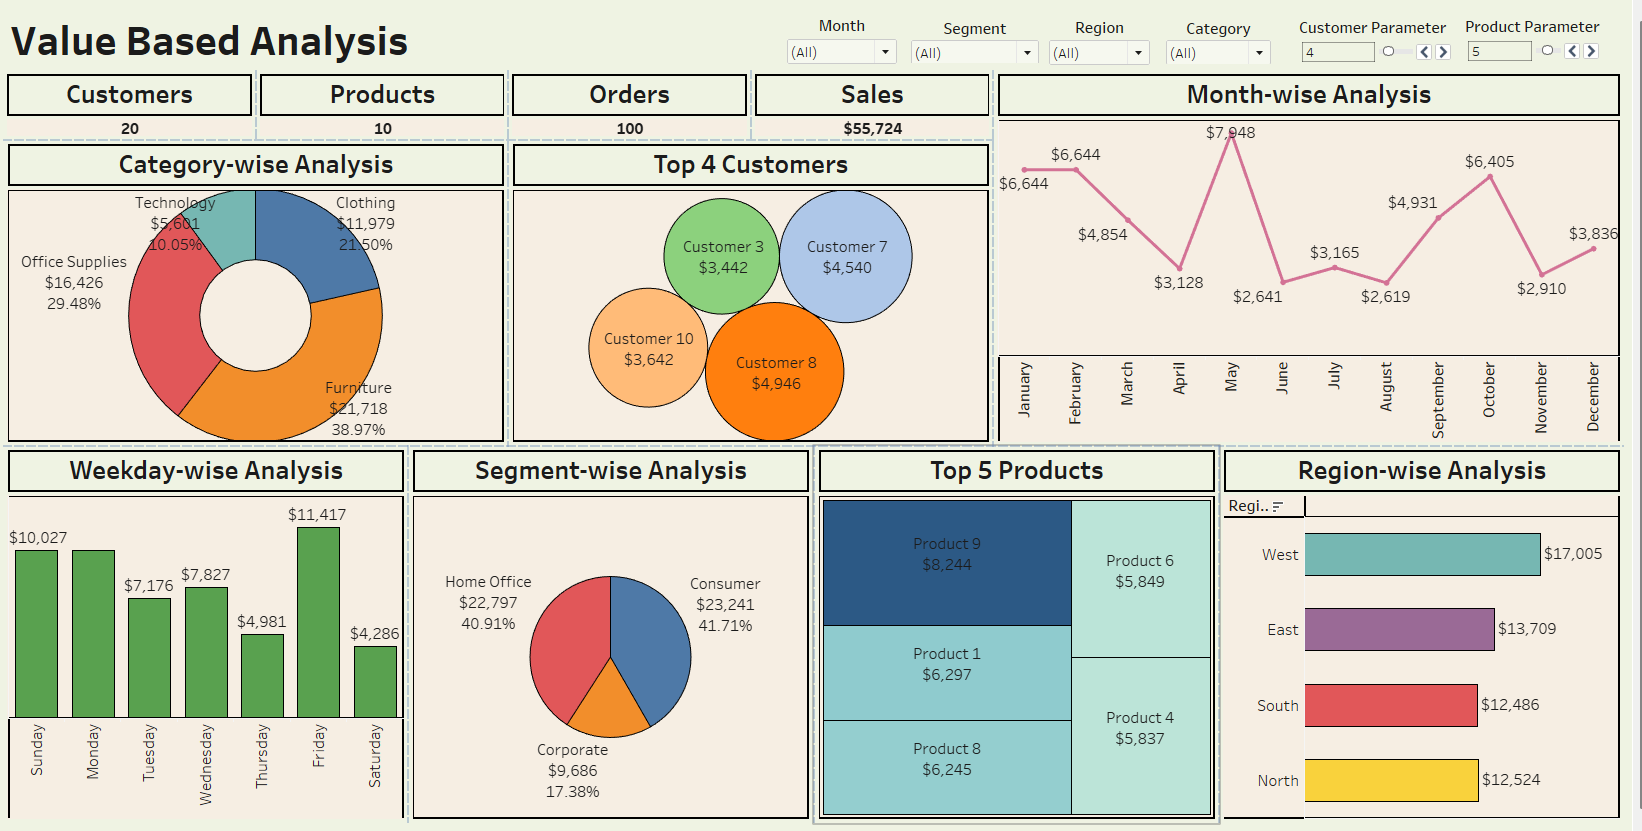

Layout of this report page (visuals, bound fields, positions):
{"tool":"tableau","page":{"name":"Value Based Analysis","canvas":[1000,1000],"units":"permille","ordinal":1},"visuals":[{"type":"title","box":[4.9,9.4,990.2,72.9]},{"type":"filter","title":"Category-wise Value Analysis","param":"[federated.1e0u4ht0kt4j6x1ftj8en021s4zm].[mn:order_date:ok]","box":[482.2,17.6,70.7,62.3]},{"type":"parameter","param":"[Parameters].[Parameter 1]","box":[897.9,18.8,83.6,54.1]},{"type":"filter","title":"Category-wise Value Analysis","param":"[federated.1e0u4ht0kt4j6x1ftj8en021s4zm].[none:region:nk]","box":[642.1,20,65.2,58.8]},{"type":"parameter","param":"[Parameters].[Parameter 2]","box":[796.4,20,94.7,58.8]},{"type":"filter","title":"Category-wise Value Analysis","param":"[federated.1e0u4ht0kt4j6x1ftj8en021s4zm].[none:segment:nk]","box":[557.8,21.2,81.8,55.2]},{"type":"filter","title":"Category-wise Value Analysis","param":"[federated.1e0u4ht0kt4j6x1ftj8en021s4zm].[none:category:nk]","box":[713.4,21.2,67.7,56.4]},{"type":"worksheet","title":"Customers","mark":"Automatic","box":[4.9,82.2,154.3,84.6]},{"type":"worksheet","title":"Products","mark":"Automatic","box":[159.2,82.2,154.3,84.6]},{"type":"worksheet","title":"Orders","mark":"Automatic","box":[313.6,82.2,148.2,84.6]},{"type":"worksheet","title":"Sales","mark":"Automatic","box":[461.8,82.2,148.2,84.6]},{"type":"worksheet","title":"Month-wise Analysis Val based","mark":"Automatic","rows":["sales_amount"],"cols":["order_date"],"box":[609.9,82.2,385.1,454.2]},{"type":"worksheet","title":"Category-wise Value Analysis","mark":"Pie","rows":["Calculation_652177562399150081","Calculation_652177562399150081"],"box":[4.9,166.9,308.7,369.6]},{"type":"worksheet","title":"Top Customer Value based ","mark":"Circle","box":[313.6,166.9,296.4,369.6]},{"type":"worksheet","title":"Weekday-wise Analysis Val based","mark":"Bar","rows":["sales_amount"],"cols":["order_date"],"box":[4.9,536.4,247.5,454.2]},{"type":"worksheet","title":"Segment wise Value Analysis","mark":"Pie","box":[252.5,536.4,247.5,454.2]},{"type":"worksheet","title":"Product-wise value Analysis","mark":"Automatic","box":[500,536.4,247.5,454.2]},{"type":"worksheet","title":"Region-wise Value Analysis ","mark":"Automatic","rows":["region"],"cols":["sales_amount"],"box":[747.5,536.4,247.5,454.2]}]}

Visuals, with their boxes on the dashboard's canvas, which has no fixed pixel size, in thousandths of its width and height (x1, y1, x2, y2). These are canvas units, not pixel positions in the 1642x831 screenshot, which may show the page scaled, cropped or inside an application window:
title: detection(5, 9, 995, 82)
"Category-wise Value Analysis" filter: detection(482, 18, 553, 80)
parameter: detection(898, 19, 982, 73)
"Category-wise Value Analysis" filter: detection(642, 20, 707, 79)
parameter: detection(796, 20, 891, 79)
"Category-wise Value Analysis" filter: detection(558, 21, 640, 76)
"Category-wise Value Analysis" filter: detection(713, 21, 781, 78)
"Customers" worksheet: detection(5, 82, 159, 167)
"Products" worksheet: detection(159, 82, 314, 167)
"Orders" worksheet: detection(314, 82, 462, 167)
"Sales" worksheet: detection(462, 82, 610, 167)
"Month-wise Analysis Val based" worksheet: detection(610, 82, 995, 536)
"Category-wise Value Analysis" worksheet (Pie marks): detection(5, 167, 314, 536)
"Top Customer Value based " worksheet (Circle marks): detection(314, 167, 610, 536)
"Weekday-wise Analysis Val based" worksheet (Bar marks): detection(5, 536, 252, 991)
"Segment wise Value Analysis" worksheet (Pie marks): detection(252, 536, 500, 991)
"Product-wise value Analysis" worksheet: detection(500, 536, 748, 991)
"Region-wise Value Analysis " worksheet: detection(748, 536, 995, 991)
